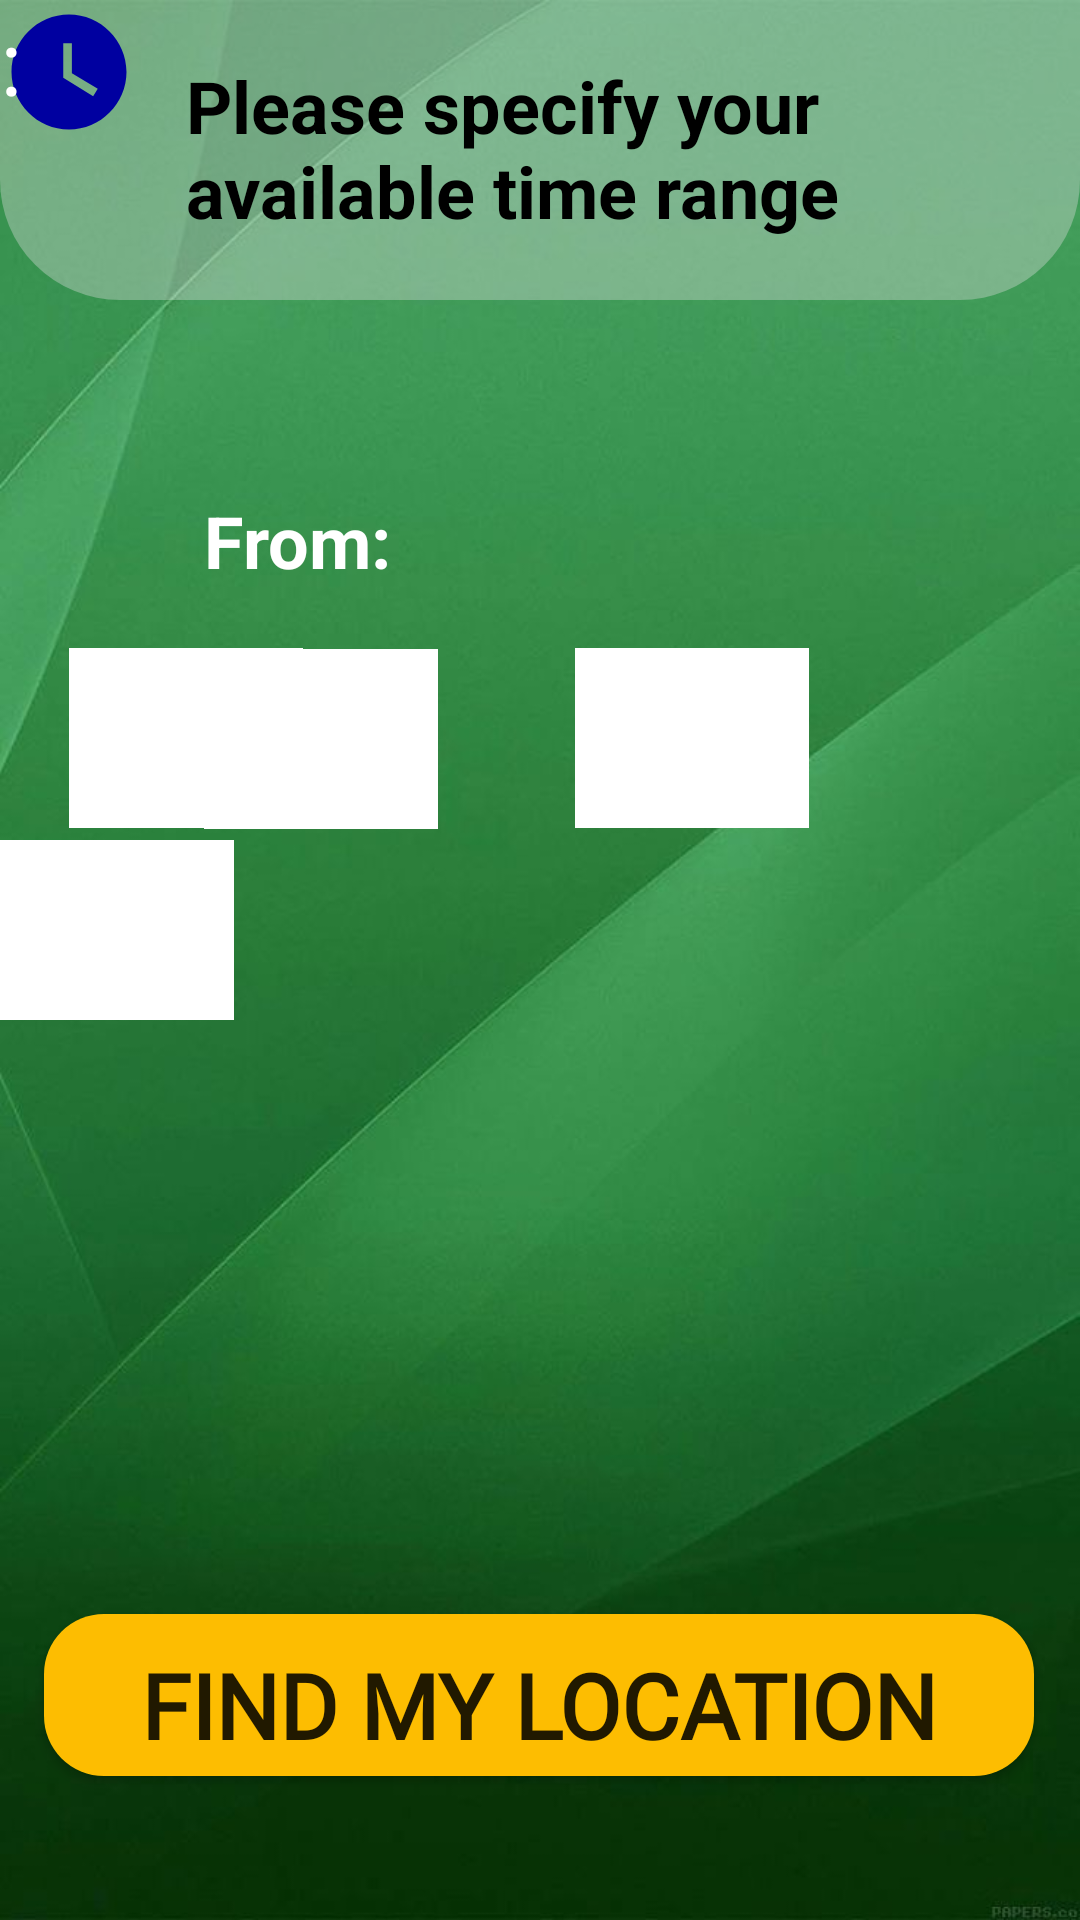

Icon click points for this 1080px x 1920px phone screenshot, format [x,y]:
watch: [66,72]
